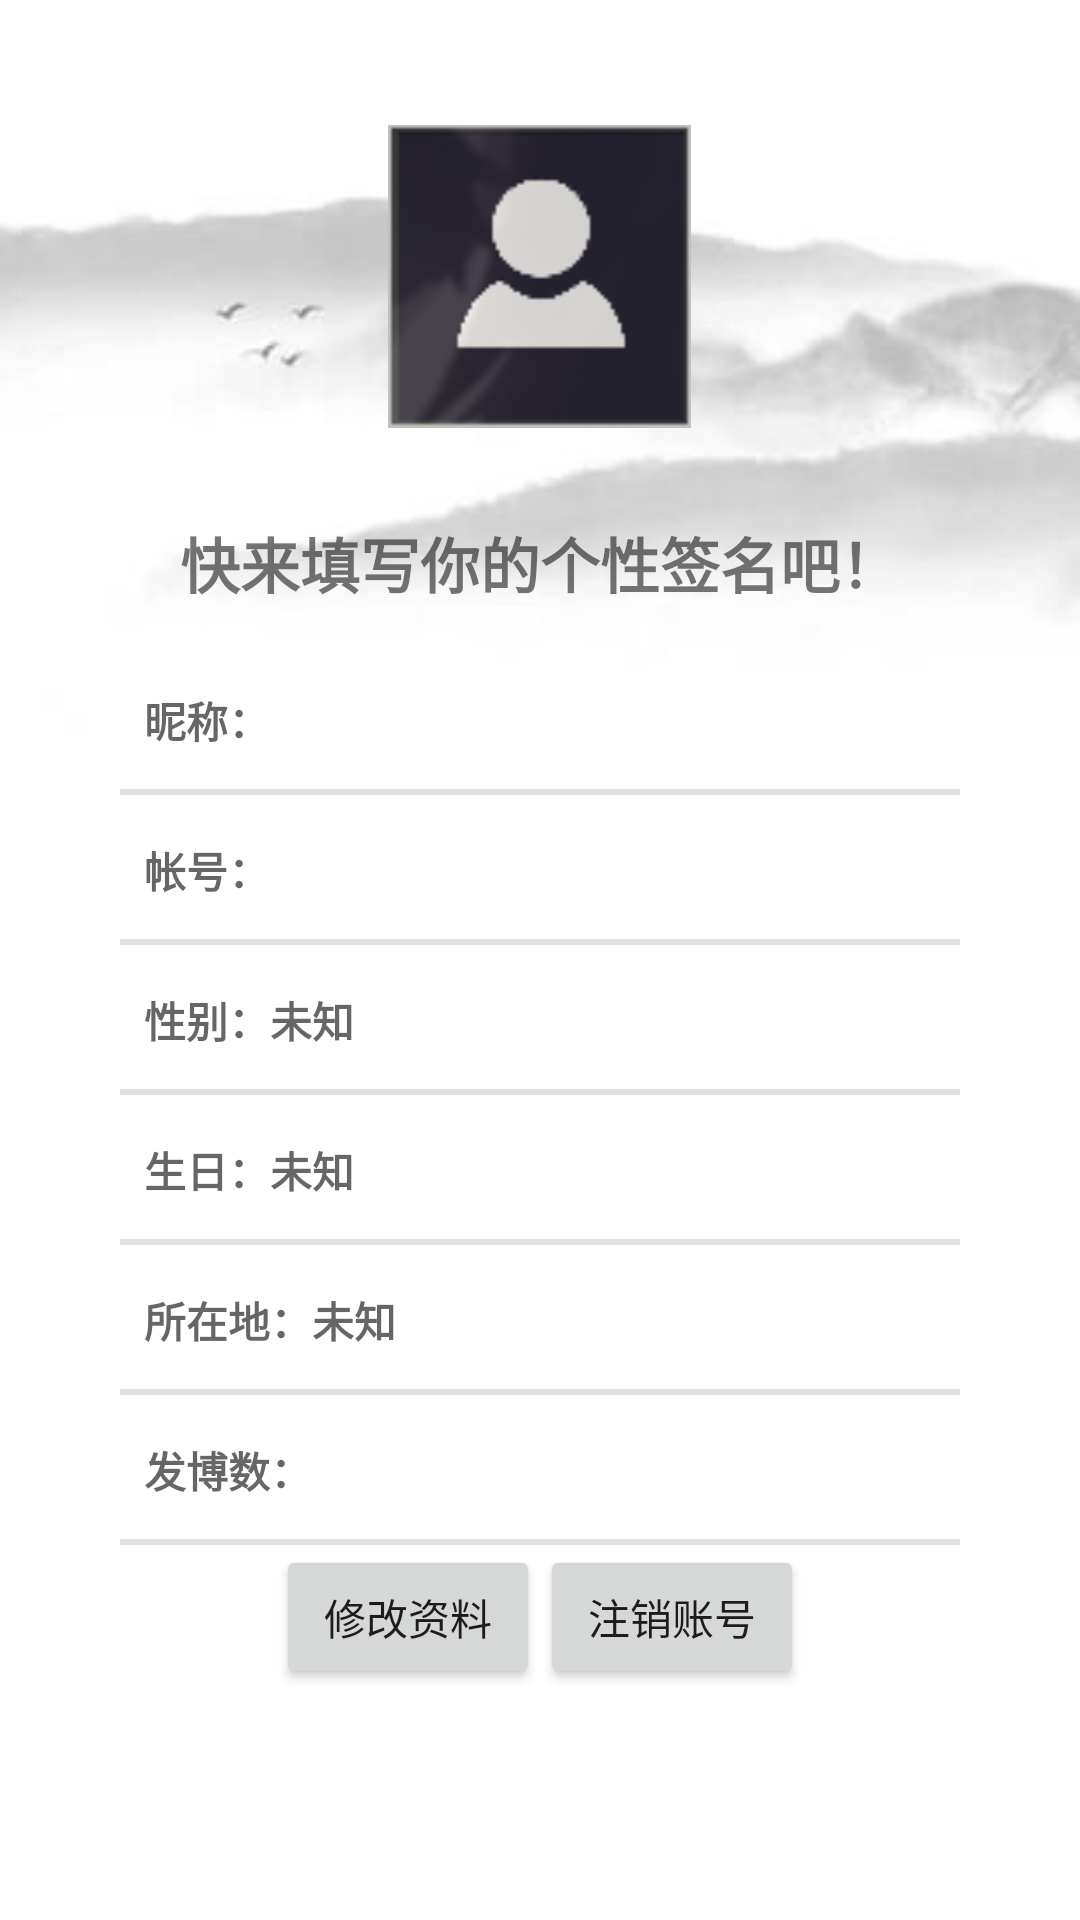

Named icons in this screenshot (1080*1920) and their centers, point (x, y):
profile photo: point (539, 276)
